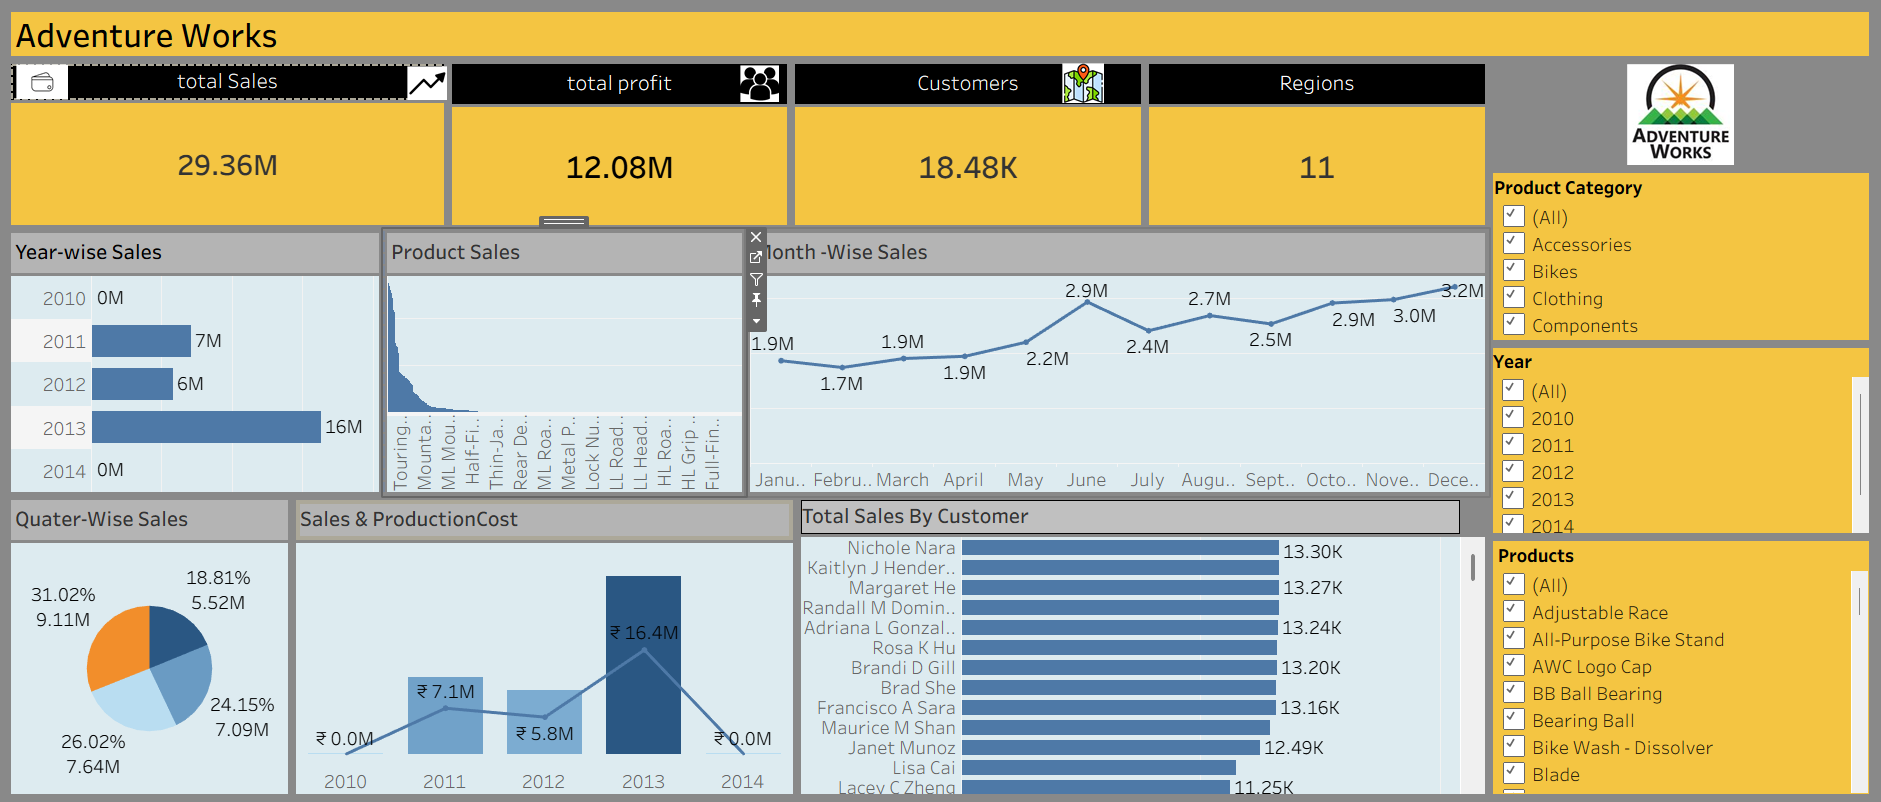

What the dashboard file says about the page in this screenshot:
{"tool":"powerbi","page":{"name":"Page 1","canvas":[1280,720],"ordinal":0},"visuals":[{"type":"clusteredBarChart","fields":{"Y":["UNION SALES.Total Sales"],"Category":["UNION SALES.OrderDate.Variation.Date Hierarchy.Year"]},"box":[0,204.5,296.4,236],"z":0},{"type":"lineChart","fields":{"Y":["UNION SALES.Total Sales"],"Category":["UNION SALES.OrderDate.Variation.Date Hierarchy.Month"]},"box":[660,204.5,418.5,236],"z":1},{"type":"pieChart","fields":{"Y":["UNION SALES.Total Sales"],"Category":["UNION SALES.Quarter"]},"box":[1.2,440.4,309.7,279.9],"z":2},{"type":"lineClusteredColumnComboChart","fields":{"Y":["UNION SALES.Total Sales"],"Category":["UNION SALES.OrderDate.Variation.Date Hierarchy.Year"],"Y2":["Sum(UNION SALES.TotalProductCost)"]},"box":[311,440.4,373.2,279.9],"z":3},{"type":"columnChart","fields":{"Category":["UNION SALES.Product Name"],"Y":["UNION SALES.Total Sales"]},"box":[296.4,204.5,363.6,236],"z":4},{"type":"barChart","fields":{"Y":["UNION SALES.Total Sales"],"Category":["Dimcustomer.Customer Full Name"]},"box":[684.2,440.4,394.3,279.9],"z":5},{"type":"cardVisual","fields":{"Data":["UNION SALES.Total Customers"]},"box":[197.6,97.4,197.6,107],"z":9},{"type":"cardVisual","fields":{"Data":["UNION SALES.Total Order"]},"box":[419.9,97.4,185.2,107],"z":10},{"type":"cardVisual","fields":{"Data":["UNION SALES.Total Quantity"]},"box":[625.7,97.4,182.5,107],"z":11},{"type":"cardVisual","fields":{"Data":["UNION SALES.Total Product"]},"box":[832.9,97.4,186.6,107],"z":12},{"type":"slicer","fields":{"Values":["DimSalesTerritory.SalesTerritoryRegion"]},"box":[1078.5,394.3,201.5,154.3],"z":13},{"type":"cardVisual","fields":{"Data":["UNION SALES.Total Sales"]},"box":[1.4,97.4,179.8,107],"z":14},{"type":"textbox","box":[1.4,0,1062.1,78.2],"z":15},{"type":"listSlicer","fields":{"Values":["UNION SALES.OrderDate.Variation.Date Hierarchy.Year"]},"box":[1078.5,204,201.5,190.3],"z":16},{"type":"image","box":[1078.6,11,189.4,193.5],"z":17},{"type":"listSlicer","fields":{"Values":["UNION SALES.Product Name"]},"box":[1079,548,201,172],"z":18}]}

Visuals, with their boxes on the page's 1280x720 design canvas (x1, y1, x2, y2). These are canvas units, not pixel positions in the 1881x802 screenshot, which may show the page scaled, cropped or inside an application window:
clusteredBarChart - UNION SALES.Total Sales x UNION SALES.OrderDate.Variation.Date Hierarchy.Year: {"x1": 0, "y1": 204, "x2": 296, "y2": 440}
lineChart - UNION SALES.Total Sales x UNION SALES.OrderDate.Variation.Date Hierarchy.Month: {"x1": 660, "y1": 204, "x2": 1078, "y2": 440}
pieChart - UNION SALES.Total Sales x UNION SALES.Quarter: {"x1": 1, "y1": 440, "x2": 311, "y2": 720}
lineClusteredColumnComboChart - UNION SALES.Total Sales x UNION SALES.OrderDate.Variation.Date Hierarchy.Year: {"x1": 311, "y1": 440, "x2": 684, "y2": 720}
columnChart - UNION SALES.Product Name x UNION SALES.Total Sales: {"x1": 296, "y1": 204, "x2": 660, "y2": 440}
barChart - UNION SALES.Total Sales x Dimcustomer.Customer Full Name: {"x1": 684, "y1": 440, "x2": 1078, "y2": 720}
cardVisual - UNION SALES.Total Customers: {"x1": 198, "y1": 97, "x2": 395, "y2": 204}
cardVisual - UNION SALES.Total Order: {"x1": 420, "y1": 97, "x2": 605, "y2": 204}
cardVisual - UNION SALES.Total Quantity: {"x1": 626, "y1": 97, "x2": 808, "y2": 204}
cardVisual - UNION SALES.Total Product: {"x1": 833, "y1": 97, "x2": 1020, "y2": 204}
slicer - DimSalesTerritory.SalesTerritoryRegion: {"x1": 1078, "y1": 394, "x2": 1280, "y2": 549}
cardVisual - UNION SALES.Total Sales: {"x1": 1, "y1": 97, "x2": 181, "y2": 204}
textbox: {"x1": 1, "y1": 0, "x2": 1064, "y2": 78}
listSlicer - UNION SALES.OrderDate.Variation.Date Hierarchy.Year: {"x1": 1078, "y1": 204, "x2": 1280, "y2": 394}
image: {"x1": 1079, "y1": 11, "x2": 1268, "y2": 204}
listSlicer - UNION SALES.Product Name: {"x1": 1079, "y1": 548, "x2": 1280, "y2": 720}
